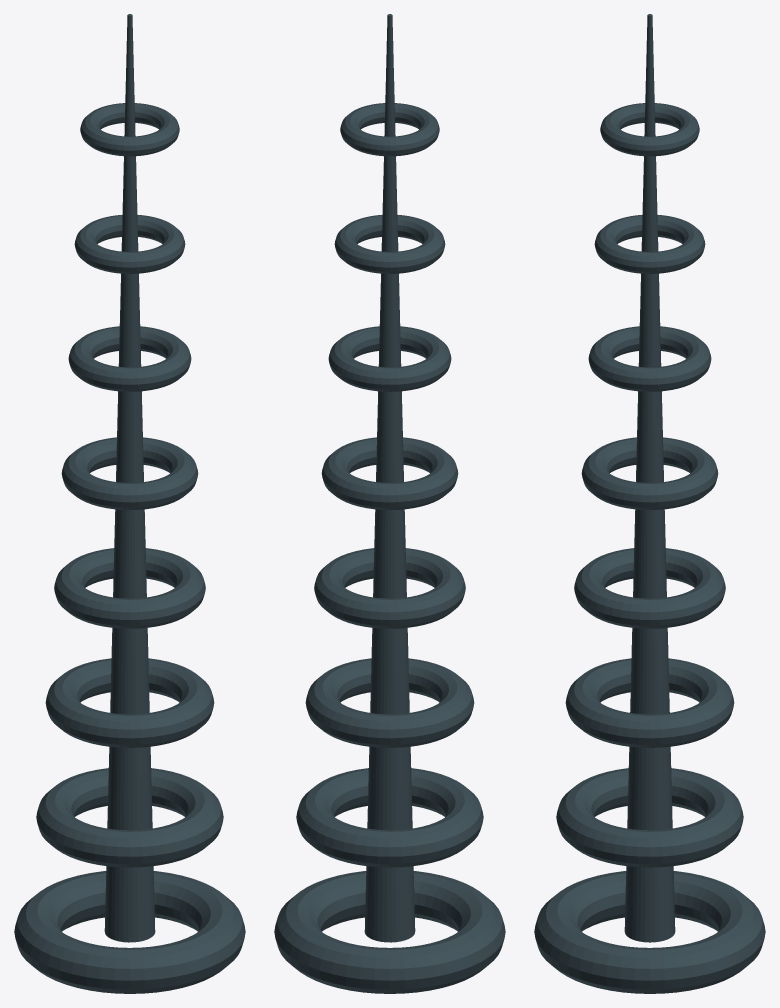
The model's file is LabPylon.gltf.
3 views of the same model, side by side, from view 1: azimuth 30°, elevation 25°; view 2: azimuth 150°, elevation 25°; view 3: azimuth 270°, elevation 25° (orthographic).
Visible parts, largest first — view 1: Pylon; view 2: Pylon; view 3: Pylon.
Part boxes in pixels (x1,y1,x2,y2): Pylon: (14,14,245,993); Pylon: (274,14,505,993); Pylon: (534,14,765,993).
Size of the model in its own units: 0.9148 by 4.09 by 0.9148.
